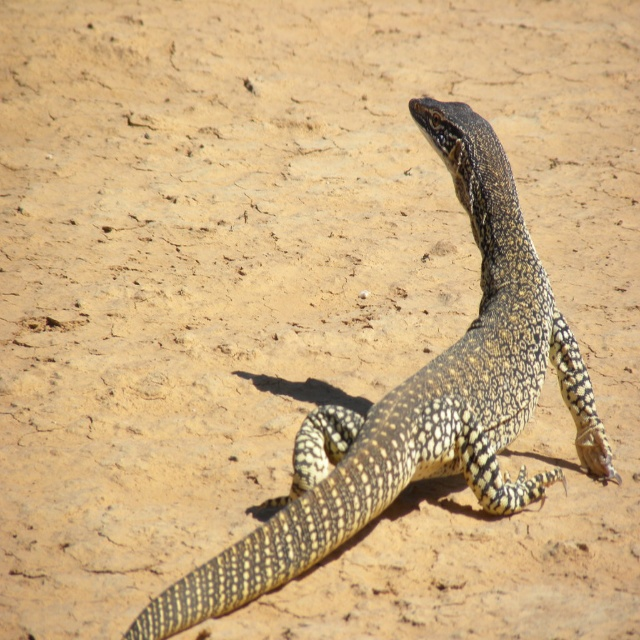Lizard: (129, 106, 618, 637)
